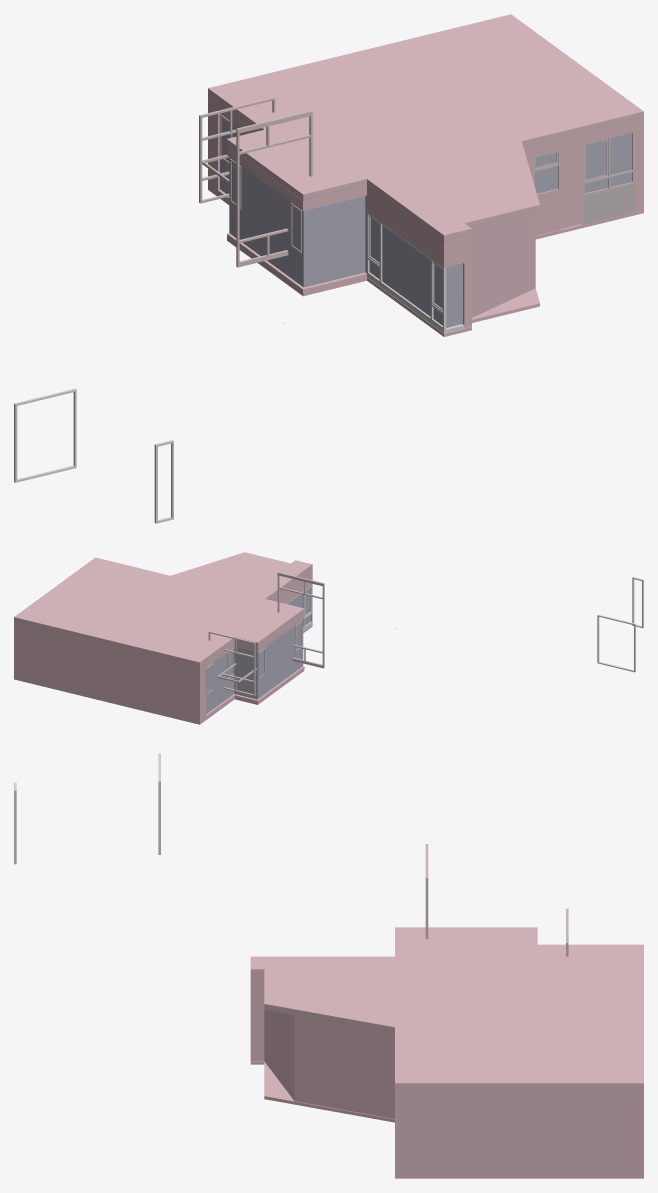
Rendered from apartment.glb.
3 renders of one model, top to bottom at view 1: azimuth 30°, elevation 25°; view 2: azimuth 150°, elevation 25°; view 3: azimuth 270°, elevation 25°, orthographic. The views are drawn at different scales.
Parts seen in each view (by area): view 1: ZJ-186, ZJ-018, ZJ-003, ZJ-021, ZJ-008, ZJ-022, ZJ-788, ZJ-014, ZJ-023, ZJ-019, ZJ-006, ZJ-009 (+7 smaller); view 2: ZJ-186, ZJ-002, ZJ-018, ZJ-788, ZJ-023, ZJ-022, ZJ-786, ZJ-006, ZJ-008, ZJ-017, ZJ-193, ZJ-021 (+1 smaller); view 3: ZJ-186, ZJ-001, ZJ-003, ZJ-012, ZJ-022, ZJ-023, ZJ-002.
Boxes of the visible parts, box(x1,y1,x2,y2) form: ZJ-186: box(208, 14, 643, 238); ZJ-018: box(220, 113, 365, 287); ZJ-003: box(463, 133, 582, 328); ZJ-021: box(369, 218, 462, 327); ZJ-008: box(367, 186, 464, 267); ZJ-022: box(208, 187, 643, 336); ZJ-788: box(236, 110, 312, 267); ZJ-014: box(584, 133, 632, 193); ZJ-023: box(208, 91, 643, 241); ZJ-019: box(367, 212, 446, 330); ZJ-006: box(227, 124, 366, 210); ZJ-009: box(583, 184, 634, 224); ZJ-186: box(14, 552, 312, 664); ZJ-002: box(14, 621, 205, 722); ZJ-018: box(206, 620, 303, 714); ZJ-788: box(277, 572, 324, 668); ZJ-023: box(14, 566, 312, 666); ZJ-022: box(14, 624, 312, 724); ZJ-786: box(208, 631, 255, 696); ZJ-006: box(224, 612, 304, 654); ZJ-008: box(270, 568, 312, 603); ZJ-017: box(597, 614, 635, 672); ZJ-193: box(206, 666, 304, 717); ZJ-021: box(287, 588, 310, 625); ZJ-186: box(250, 927, 643, 1086); ZJ-001: box(395, 1089, 597, 1175); ZJ-003: box(250, 975, 394, 1119); ZJ-012: box(597, 1101, 633, 1175); ZJ-022: box(250, 1061, 643, 1178); ZJ-023: box(250, 972, 643, 1089); ZJ-002: box(633, 1089, 643, 1175).
Size of the model in its own units: 24.16 by 5.1 by 18.64.
